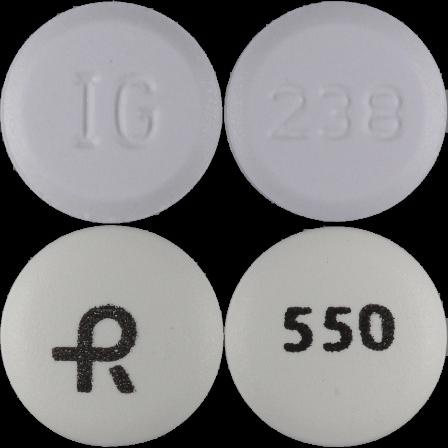10544-113: (0, 0, 224, 224)
